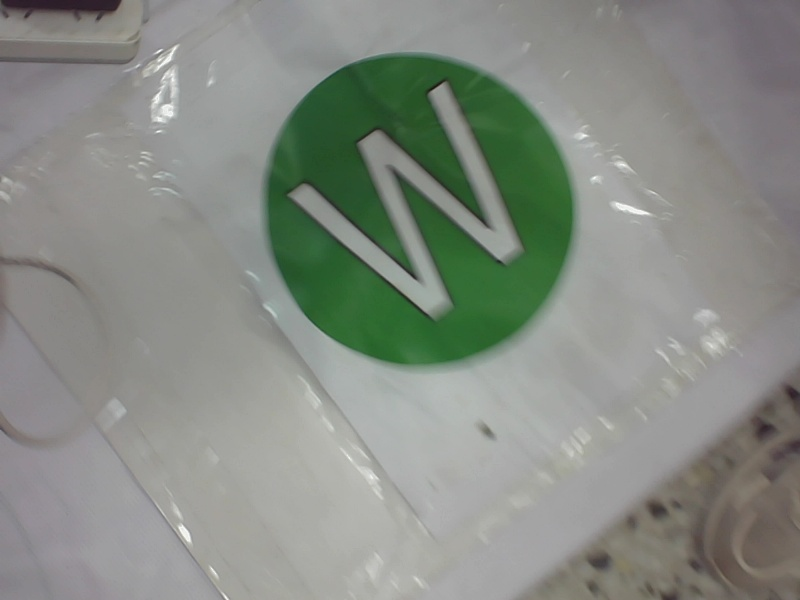areaB: (256, 44, 584, 373)
